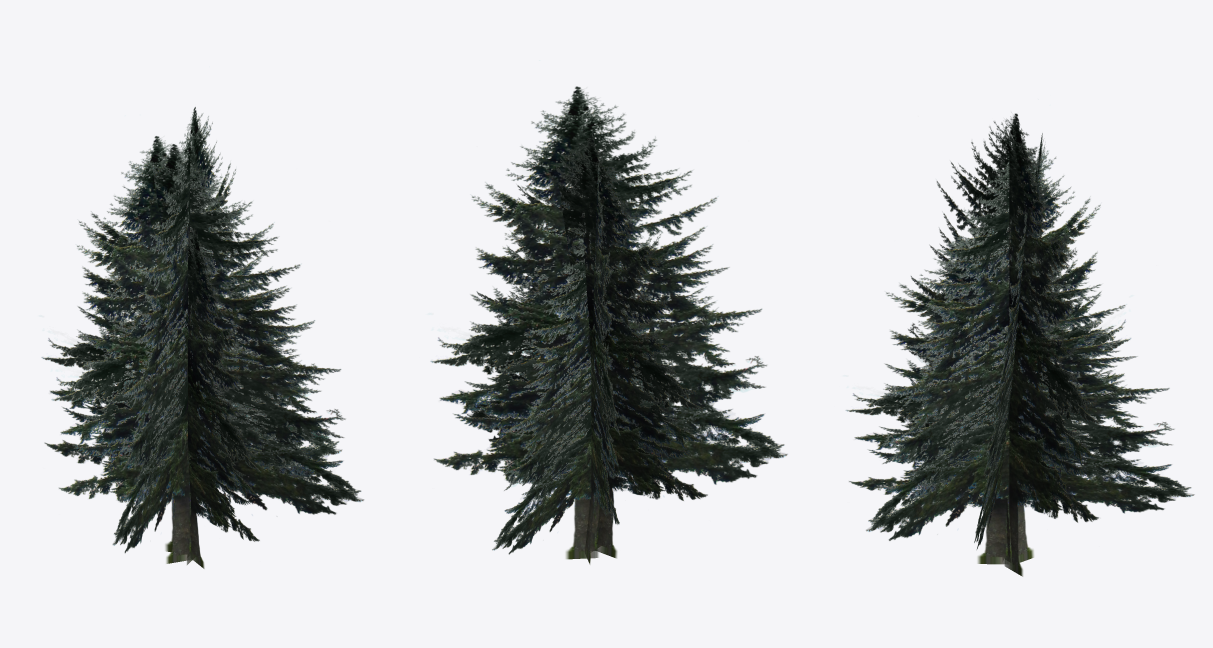
File: Bush14.gltf
3 renders of one model, left to right at view 1: azimuth 30°, elevation 25°; view 2: azimuth 150°, elevation 25°; view 3: azimuth 270°, elevation 25°, orthographic. The views are drawn at different scales.
Parts seen in each view (by area): view 1: Pine2; view 2: Pine2; view 3: Pine2.
Part boxes in pixels (box(x1,y1,x2,y2)): Pine2: box(41, 107, 363, 568); Pine2: box(430, 86, 787, 563); Pine2: box(845, 113, 1194, 576).
Size of the model in its own units: 201 by 322 by 228.
2 materials, 2 textured.
